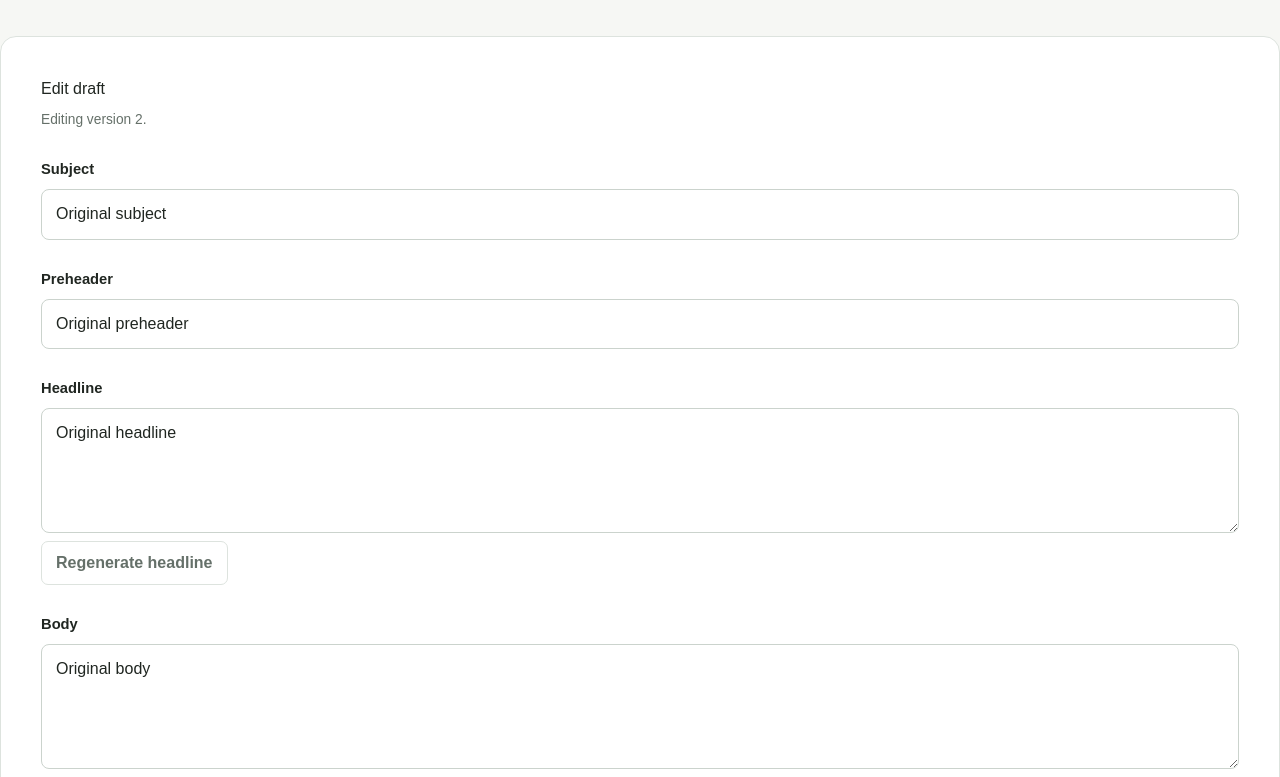
Test: EditDraftPanel › disables the save button while a save is pending
Replace the text in the field labelled "Subject" with "New subject": (640, 214) [41,189,1239,240]
(page scrolled)
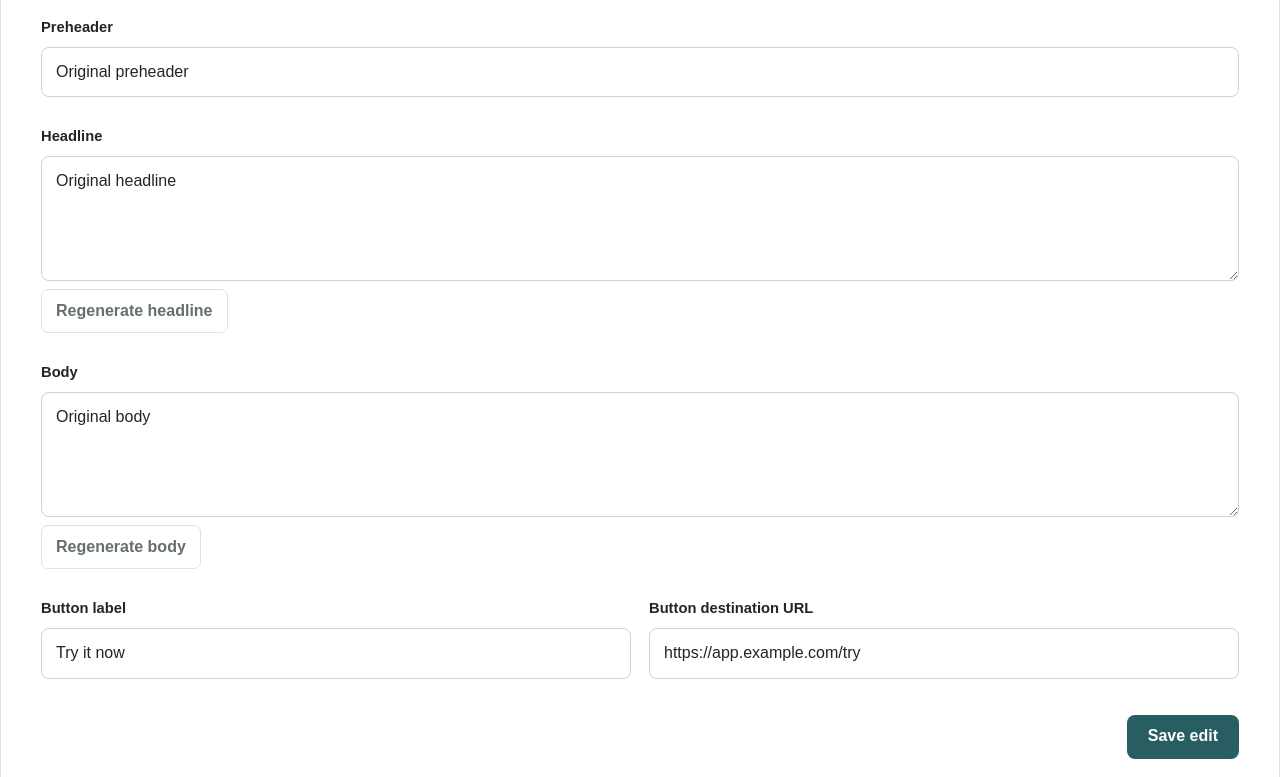
Click the button "Save edit": (1183, 736) [1127,714,1239,758]
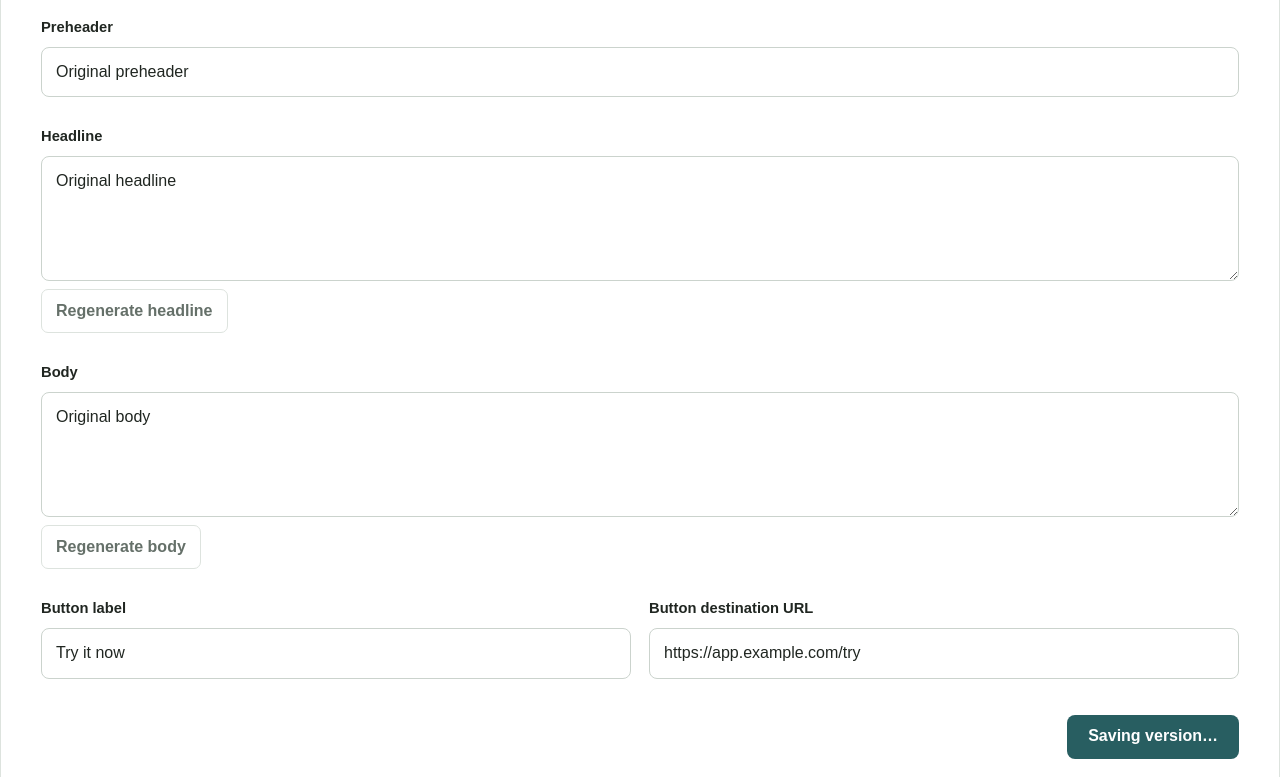
Result: the button "Saving version…" is disabled at [1067,714,1239,758]
